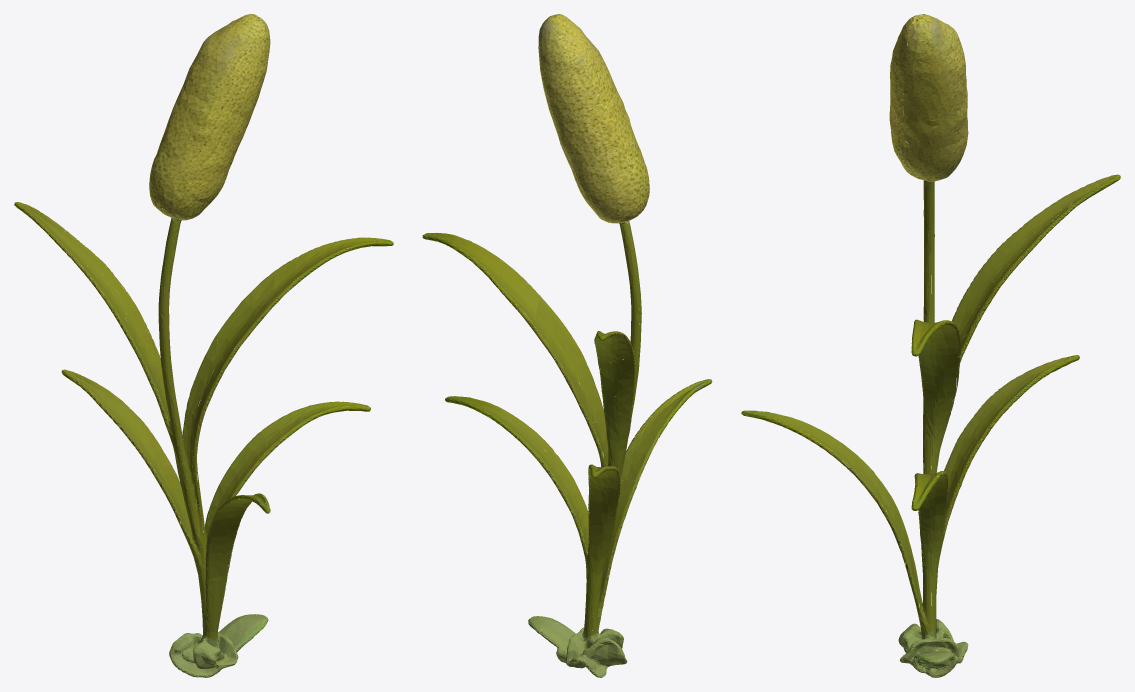
Rendered from foxtail.glb.
3 renders of one model, left to right at view 1: azimuth 30°, elevation 25°; view 2: azimuth 150°, elevation 25°; view 3: azimuth 270°, elevation 25°, orthographic. The views are drawn at different scales.
Visible parts, largest first — view 1: textured.obj; view 2: textured.obj; view 3: textured.obj.
Part boxes in pixels (x1,y1,x2,y2): textured.obj: (14,14,393,677); textured.obj: (422,14,712,677); textured.obj: (741,14,1120,677).
Size of the model in its own units: 0.2732 by 0.6001 by 0.3077.
Materials: 1 (1 with a texture image).
